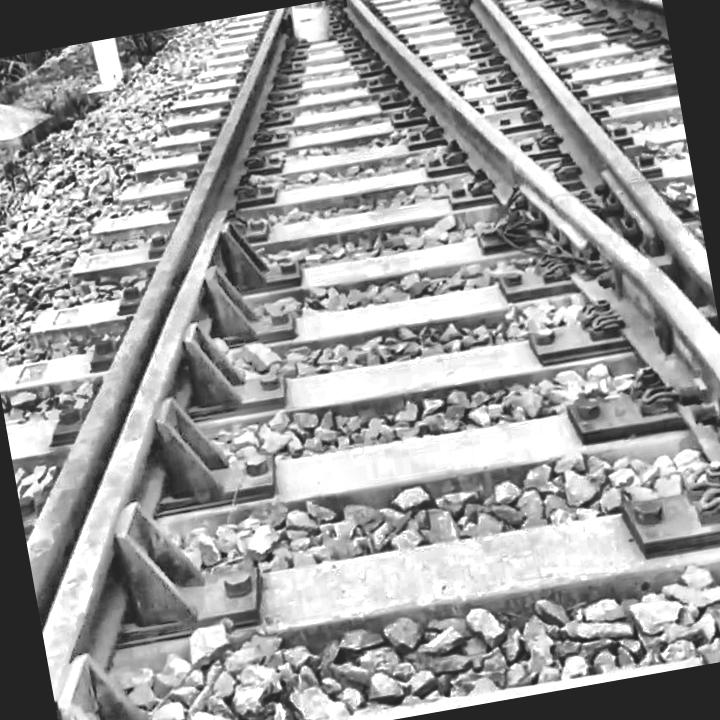Trash: (274, 0, 344, 52)
